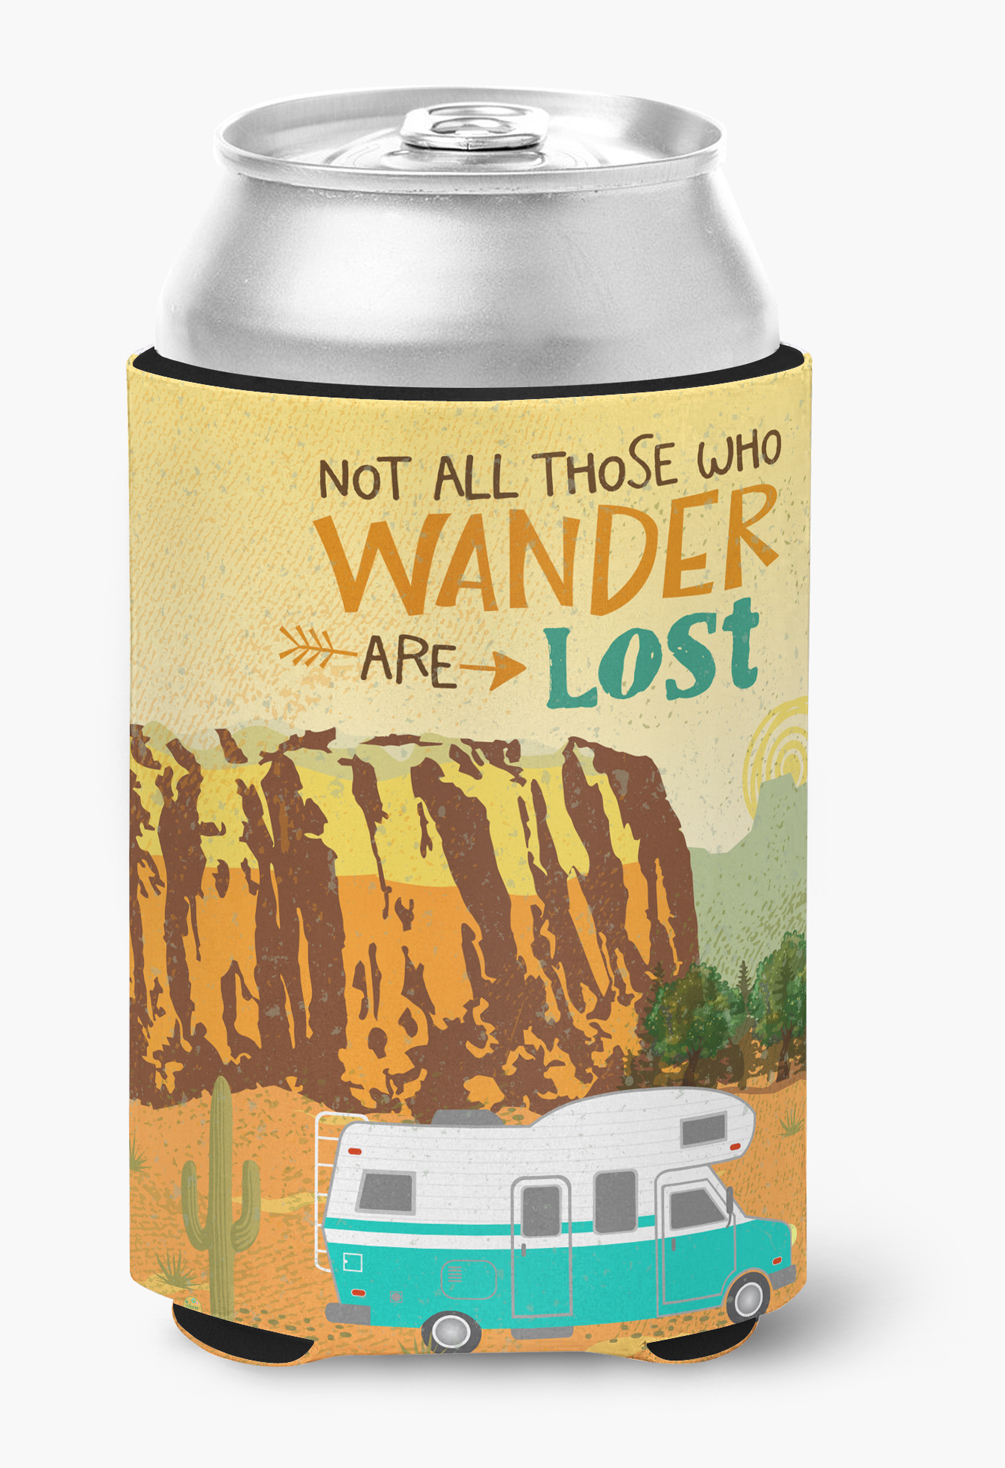Can: (99, 74, 886, 1406)
